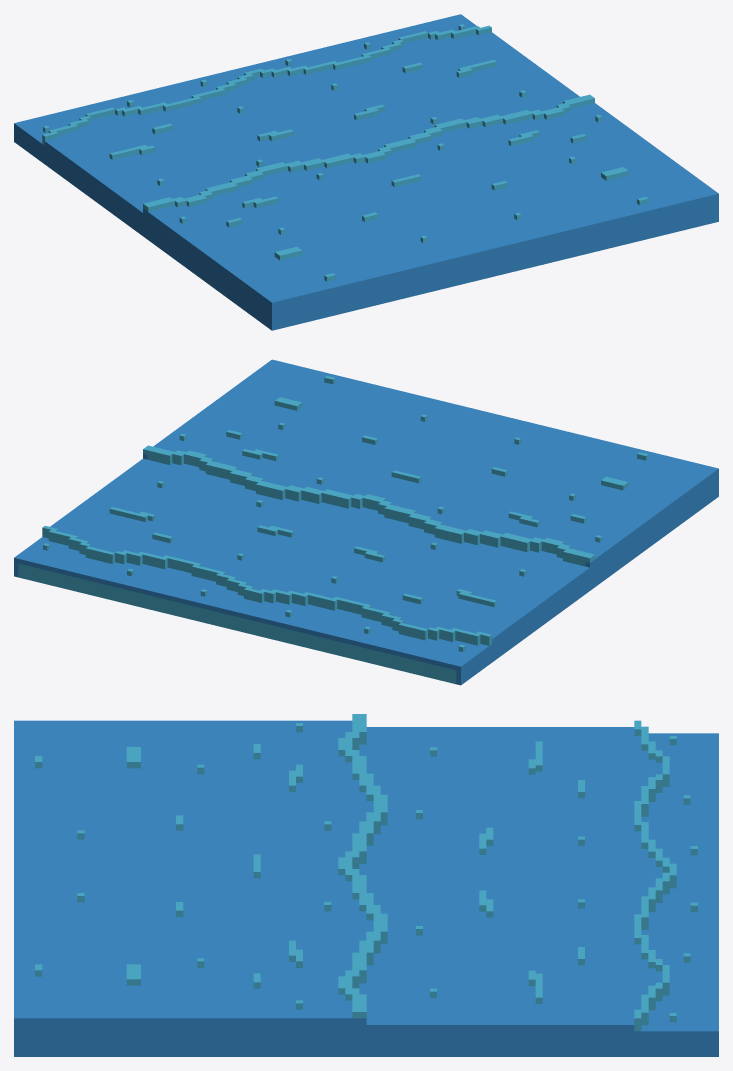
The model's file is Background_C_R_floor_02.FBX.
3 views of the same model, one above another, from view 1: azimuth 30°, elevation 25°; view 2: azimuth 150°, elevation 25°; view 3: azimuth 270°, elevation 25° (orthographic). The views are drawn at different scales.
Parts seen in each view (by area): view 1: Background_C-23; view 2: Background_C-23; view 3: Background_C-23.
Part boxes in pixels (left/top/right/bottom): Background_C-23: left=14, top=14, right=718, bottom=330; Background_C-23: left=14, top=359, right=718, bottom=685; Background_C-23: left=14, top=714, right=718, bottom=1056.
Bounding box in the file's own units: 10 × 0.7 × 10.
Materials: 1 (1 with a texture image).
